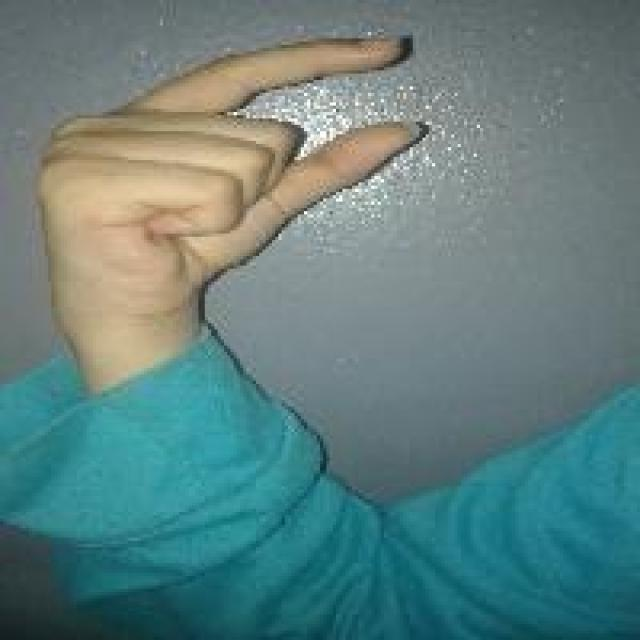G: (38, 29, 429, 310)
